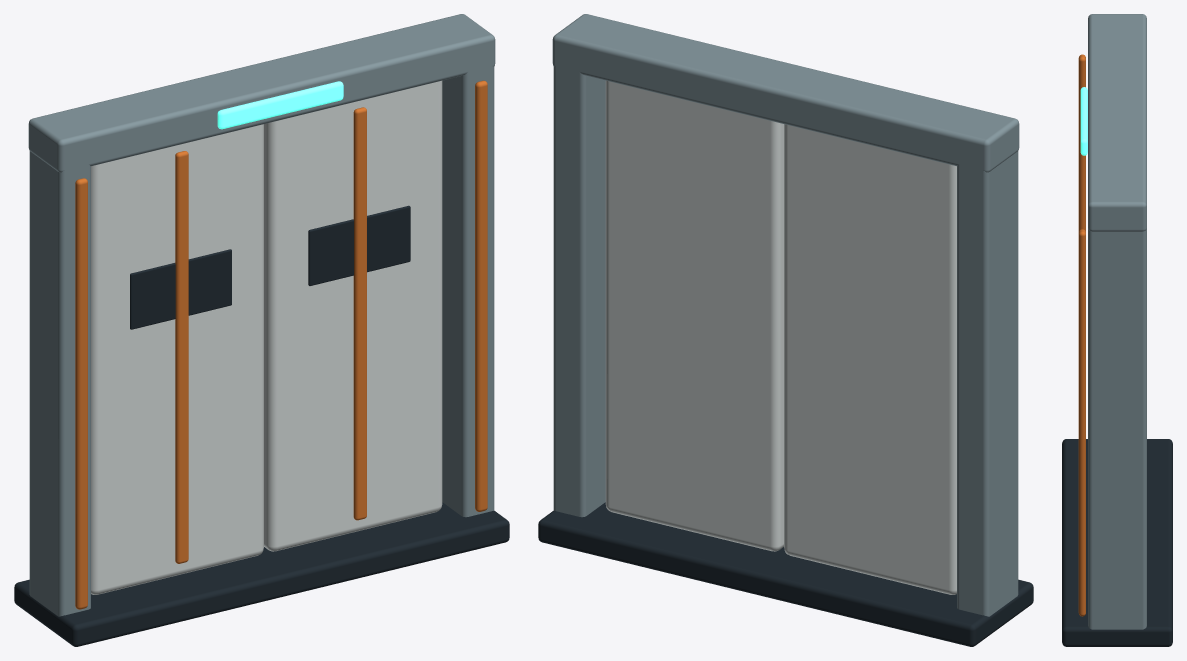
The model's file is airlock.glb.
The picture shows the model from 3 angles, left to right: view 1: azimuth 30°, elevation 25°; view 2: azimuth 150°, elevation 25°; view 3: azimuth 270°, elevation 25°; orthographic projection. The views are drawn at different scales.
Visible parts, largest first — view 1: white (×2), metal, dark (×3), orange (×3), light; view 2: white (×2), metal, dark; view 3: metal, dark, orange, light.
Part boxes in pixels (x1,y1,x2,y2): white (×2): (91, 80, 442, 594); metal: (28, 14, 495, 616); dark (×3): (14, 205, 509, 646); orange (×3): (75, 80, 487, 609); light: (217, 81, 343, 129); white (×2): (605, 80, 956, 594); metal: (552, 14, 1019, 616); dark: (538, 502, 1033, 646); metal: (1088, 14, 1146, 629); dark: (1062, 439, 1172, 646); orange: (1078, 54, 1085, 616); light: (1080, 87, 1087, 155).
Size of the model in its own units: 2.45 by 2.66 by 0.6.
